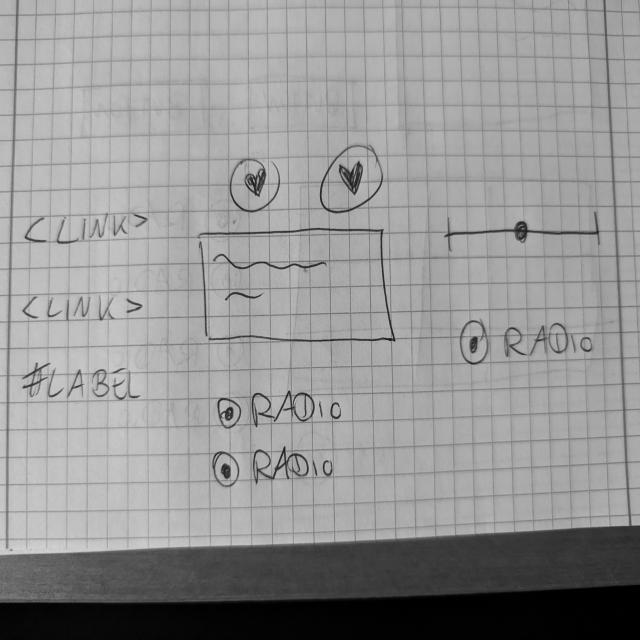icon-button: (317, 141, 386, 221), (230, 156, 285, 215)
label: (22, 357, 148, 406)
link: (22, 206, 151, 250), (20, 290, 148, 327)
radio: (460, 316, 602, 371), (212, 443, 337, 490), (215, 388, 348, 432)
slider: (442, 210, 605, 256)
textarea: (198, 228, 398, 348)
